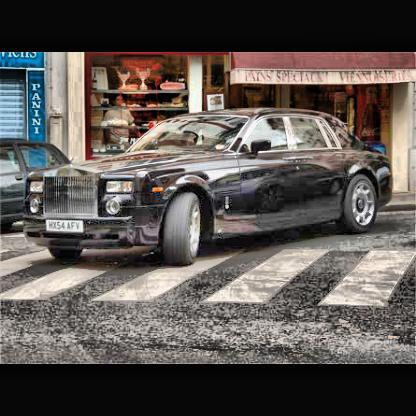Rolls-Royce Phantom Sedan 2012: (13, 97, 414, 292)
